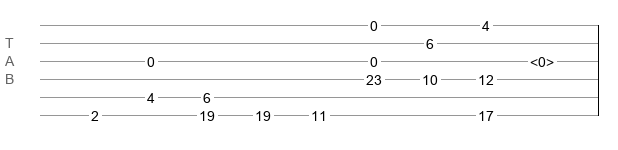0: (147, 54, 155, 64), (370, 54, 378, 64), (370, 18, 378, 28)
10: (422, 72, 438, 82)
11: (311, 108, 327, 118)
12: (478, 72, 494, 82)
17: (478, 108, 494, 118)
19: (199, 108, 215, 118), (255, 108, 271, 118)
2: (91, 108, 99, 118)
23: (366, 72, 382, 82)
4: (147, 90, 155, 100), (482, 18, 490, 28)
6: (203, 90, 211, 100), (426, 36, 434, 46)
harmonic: (530, 54, 554, 64)
